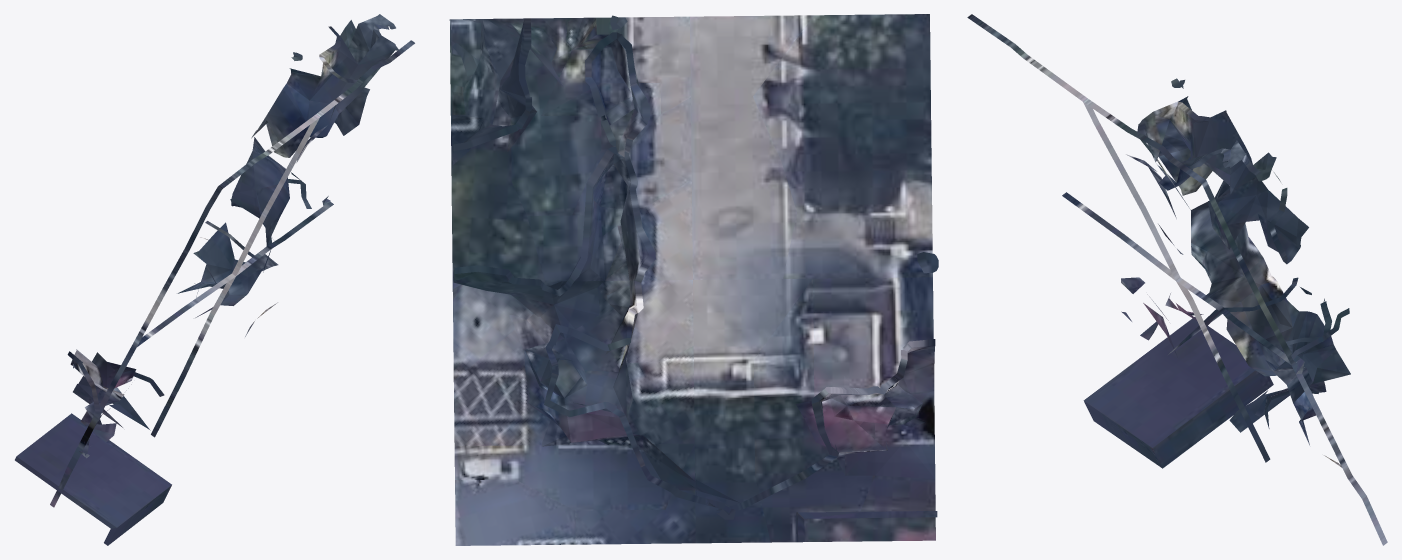
3 renders of one model, left to right at view 1: azimuth 30°, elevation 25°; view 2: azimuth 150°, elevation 25°; view 3: azimuth 270°, elevation 25°, orthographic. The views are drawn at different scales.
Size of the model in its own units: 40.44 by 39.26 by 32.06.
2 materials, 2 textured.
